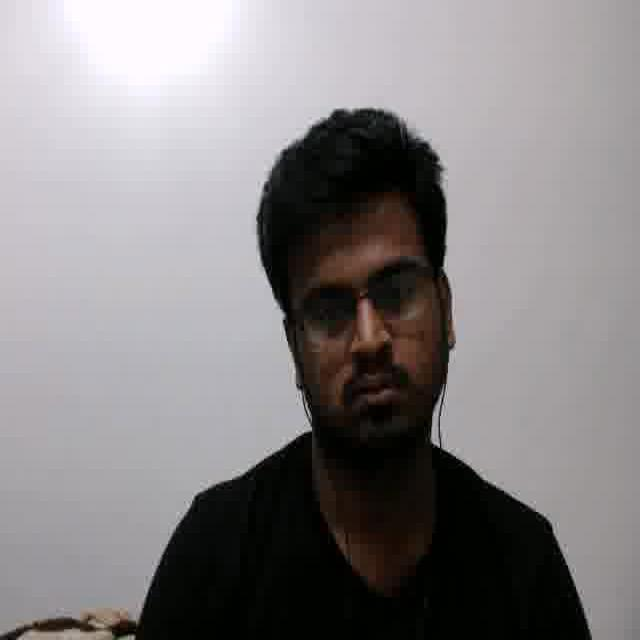Boredom: (293, 217, 439, 451)
